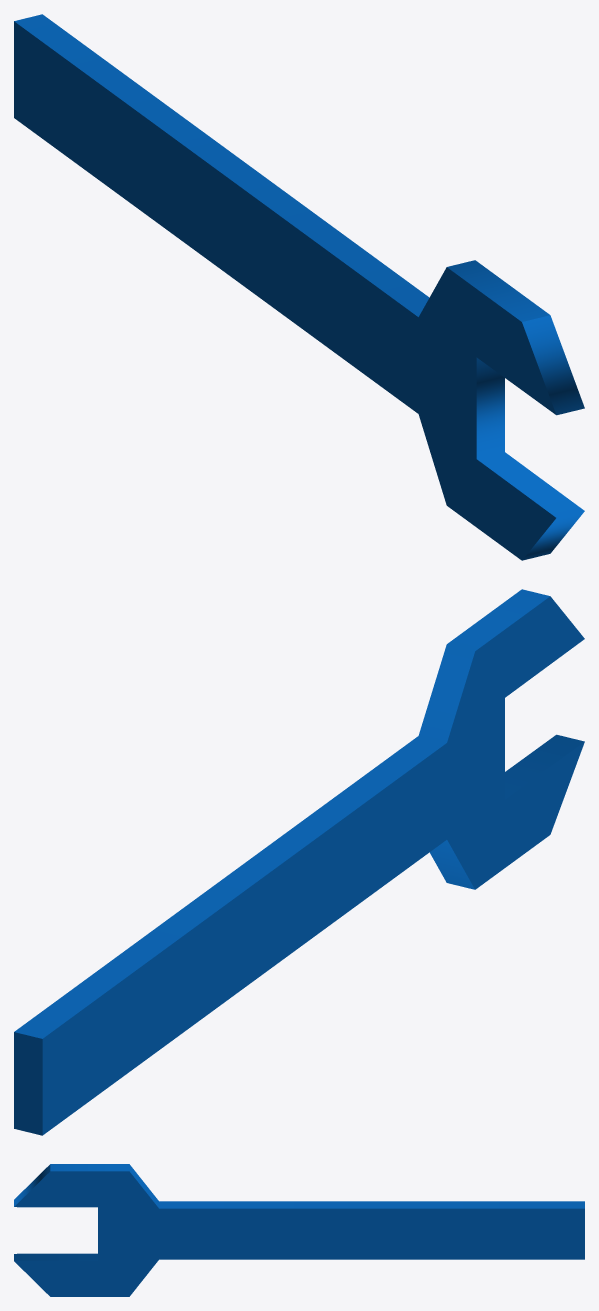
The model's file is SM_Prop_Wrench.fbx.
3 renders of one model, top to bottom at view 1: azimuth 30°, elevation 25°; view 2: azimuth 150°, elevation 25°; view 3: azimuth 270°, elevation 25°, orthographic. The views are drawn at different scales.
Visible parts, largest first — view 1: SM_Prop_Wrench; view 2: SM_Prop_Wrench; view 3: SM_Prop_Wrench.
Boxes of the visible parts, bbox=[...] form: SM_Prop_Wrench: bbox=[14, 14, 584, 560]; SM_Prop_Wrench: bbox=[14, 589, 584, 1135]; SM_Prop_Wrench: bbox=[14, 1164, 584, 1296].
Bounding box in the file's own units: 1 × 8 × 32.97.
